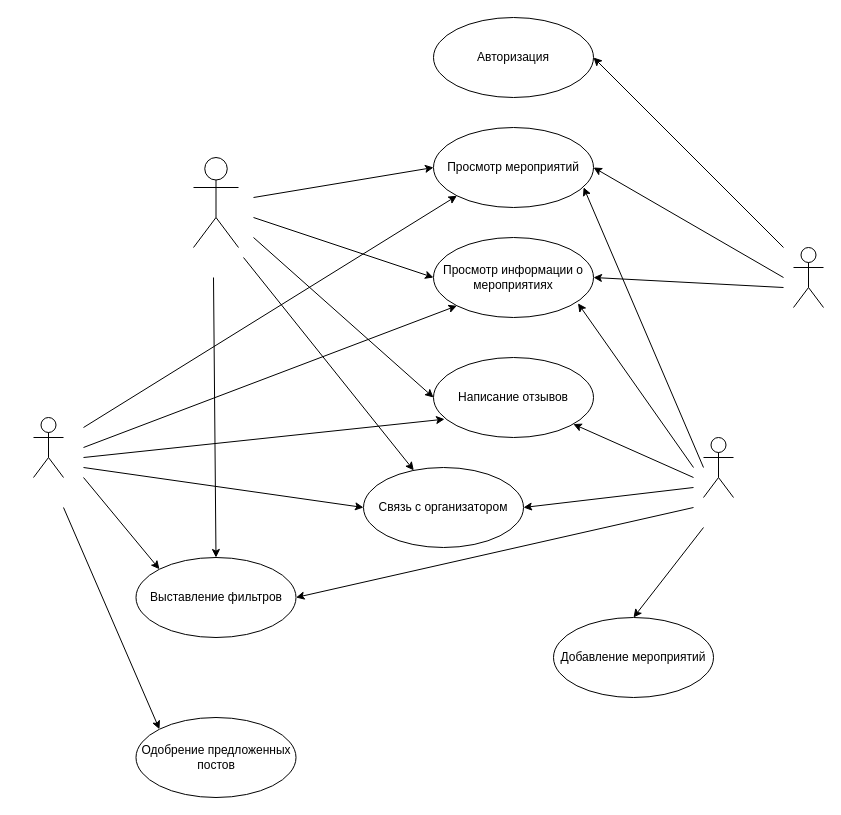
This 841x815 diagram has some shape labels left out. The shapes that lost their labels are listed below. From the top down, each one's box as (x1, y1, x2, y2) in pixels, then its label:
(192, 156, 238, 248): Клиент
(792, 246, 824, 308): Гость
(32, 416, 64, 478): Модератор
(702, 436, 734, 498): Автор
